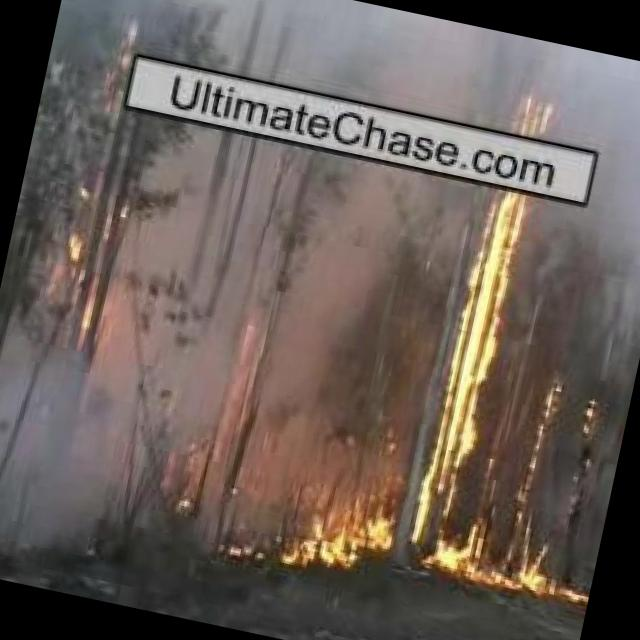Fire: (397, 180, 539, 592), (282, 486, 398, 574), (500, 522, 594, 608)
Smoke: (0, 82, 482, 629), (50, 0, 640, 179)
